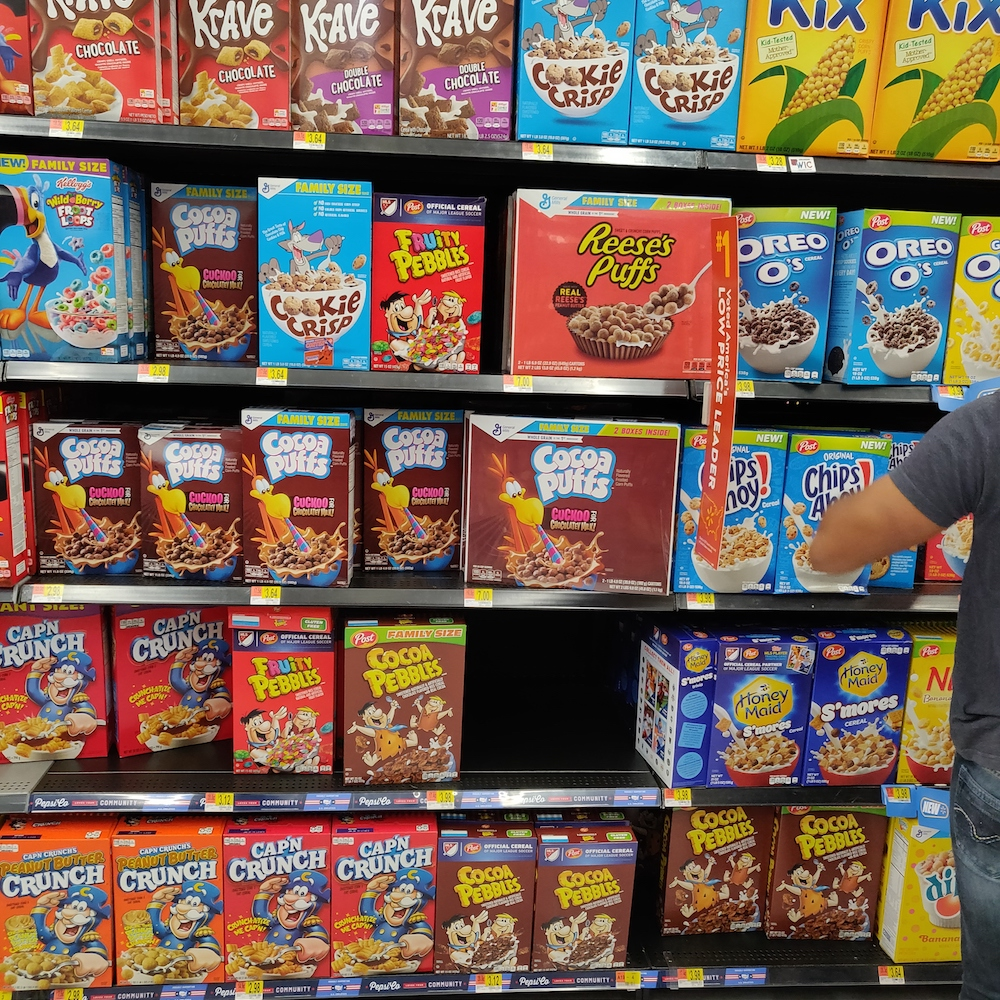Cocoa Pebbles-555517893: (347, 619, 455, 776), (671, 804, 782, 942), (771, 814, 884, 944), (441, 833, 531, 971), (542, 835, 628, 968)
Honey Maid Graham -563424385: (836, 203, 944, 381), (734, 213, 833, 384), (717, 641, 812, 786), (811, 640, 898, 776)
Kix Crispy Corn-550051312: (741, 1, 868, 150), (883, 3, 1000, 148)
